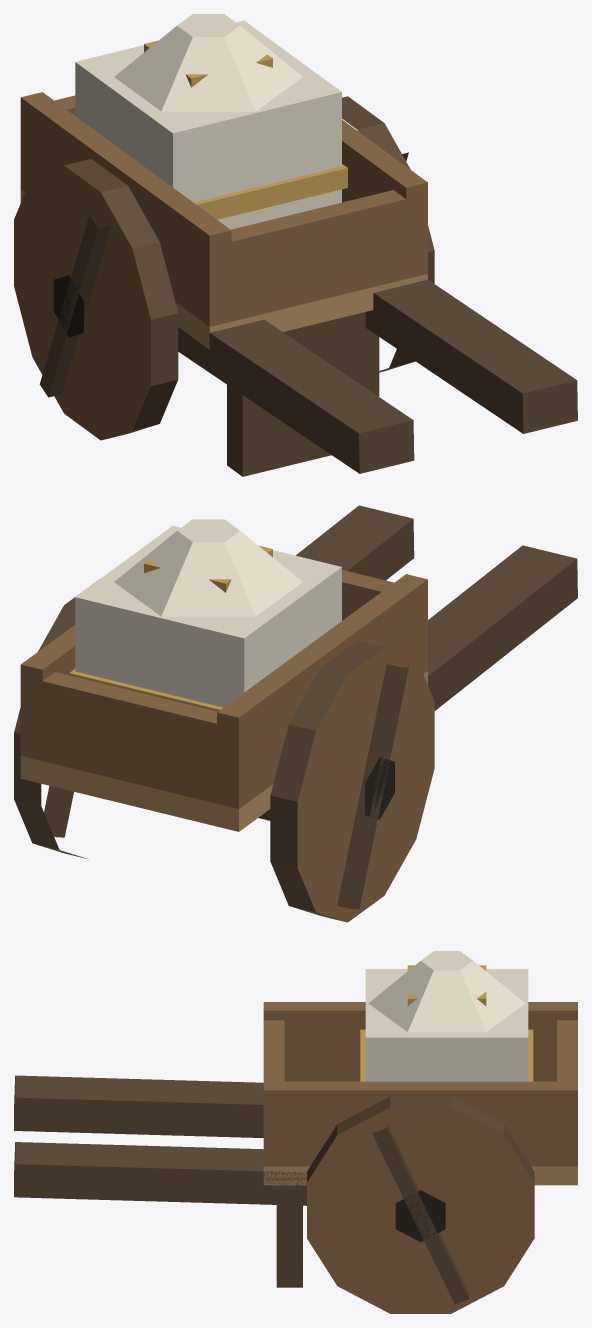
The model's file is prop-handcart.glb.
3 renders of one model, top to bottom at view 1: azimuth 30°, elevation 25°; view 2: azimuth 150°, elevation 25°; view 3: azimuth 270°, elevation 25°, orthographic. The views are drawn at different scales.
Visible parts, largest first — view 1: prop-handcart; view 2: prop-handcart; view 3: prop-handcart.
Part boxes in pixels (left/top/right/bottom): prop-handcart: left=14, top=14, right=577, bottom=476; prop-handcart: left=14, top=505, right=577, bottom=922; prop-handcart: left=14, top=951, right=577, bottom=1313.
Bounding box in the file's own units: 1.14 × 1.26 × 2.15.
Materials: 1 (1 with a texture image).
